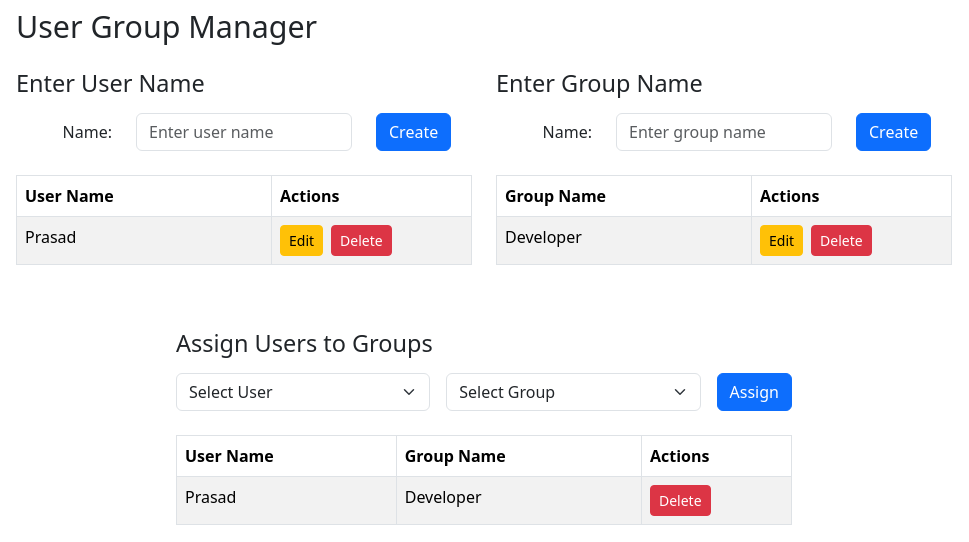
UserGroupManager Component › remove a group and an assignment automatically
Click the button "Delete" below "Enter Group Name" at (841, 240), box [811,225,872,256]
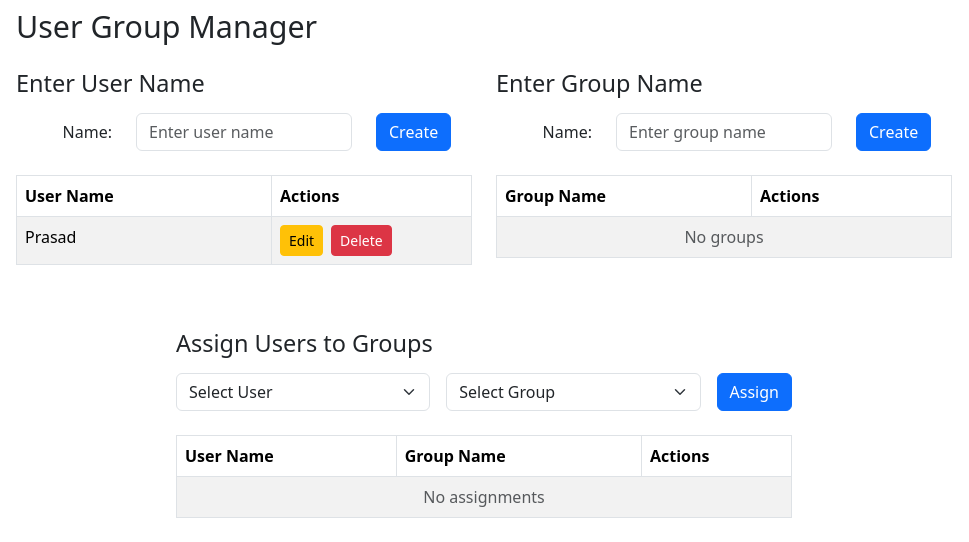
Now the text "Developer" is gone
